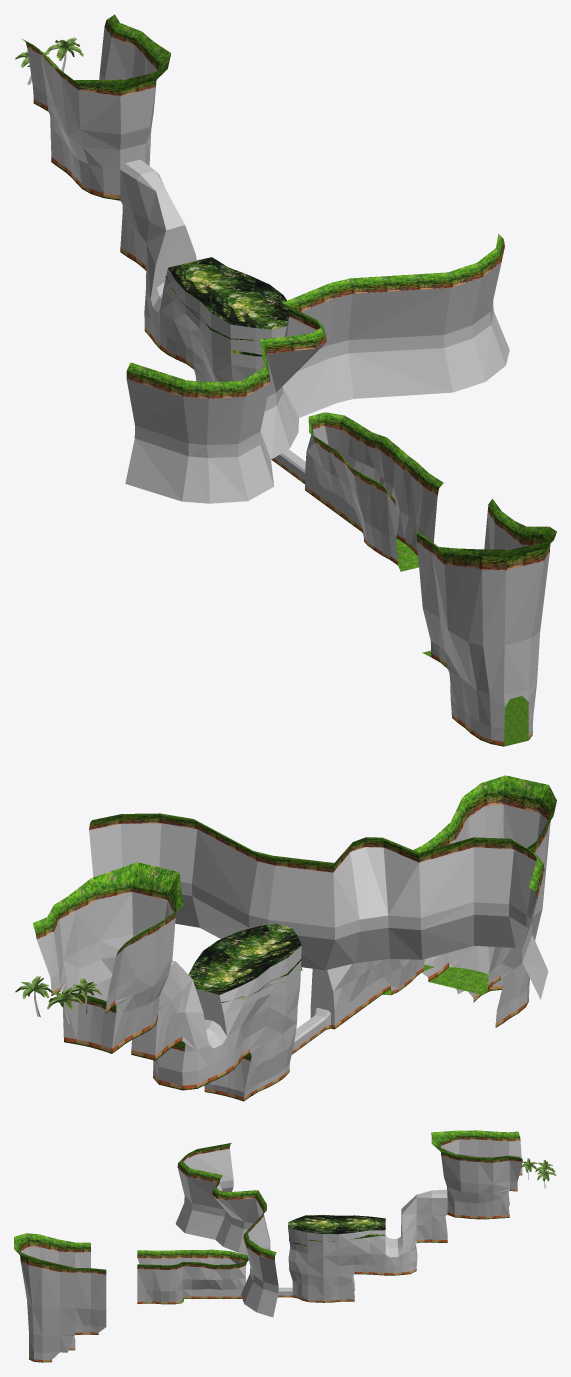
The model's file is Seagate6.obj.
3 renders of one model, top to bottom at view 1: azimuth 30°, elevation 25°; view 2: azimuth 150°, elevation 25°; view 3: azimuth 270°, elevation 25°, orthographic. The views are drawn at different scales.
Parts seen in each view (by area): view 1: obj5, obj1; view 2: obj5, obj3; view 3: obj5, obj3.
Boxes of the visible parts, x1,y1,x2,y2 form: obj5: (21,14,556,746); obj1: (504,696,528,746); obj5: (32,775,556,1101); obj3: (15,976,101,1009); obj5: (14,1130,545,1362); obj3: (521,1158,556,1181).
Bounding box in the file's own units: 1730 × 1552 × 3503.
